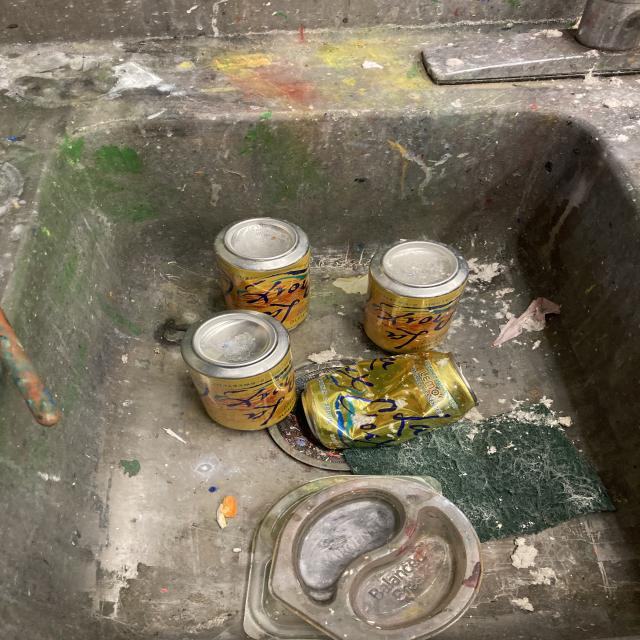can: (301, 357, 478, 452), (176, 303, 300, 438), (208, 212, 320, 332), (366, 238, 474, 353)
trash-zQNu: (173, 306, 318, 436), (300, 354, 477, 453), (204, 214, 318, 334), (360, 237, 471, 357)
